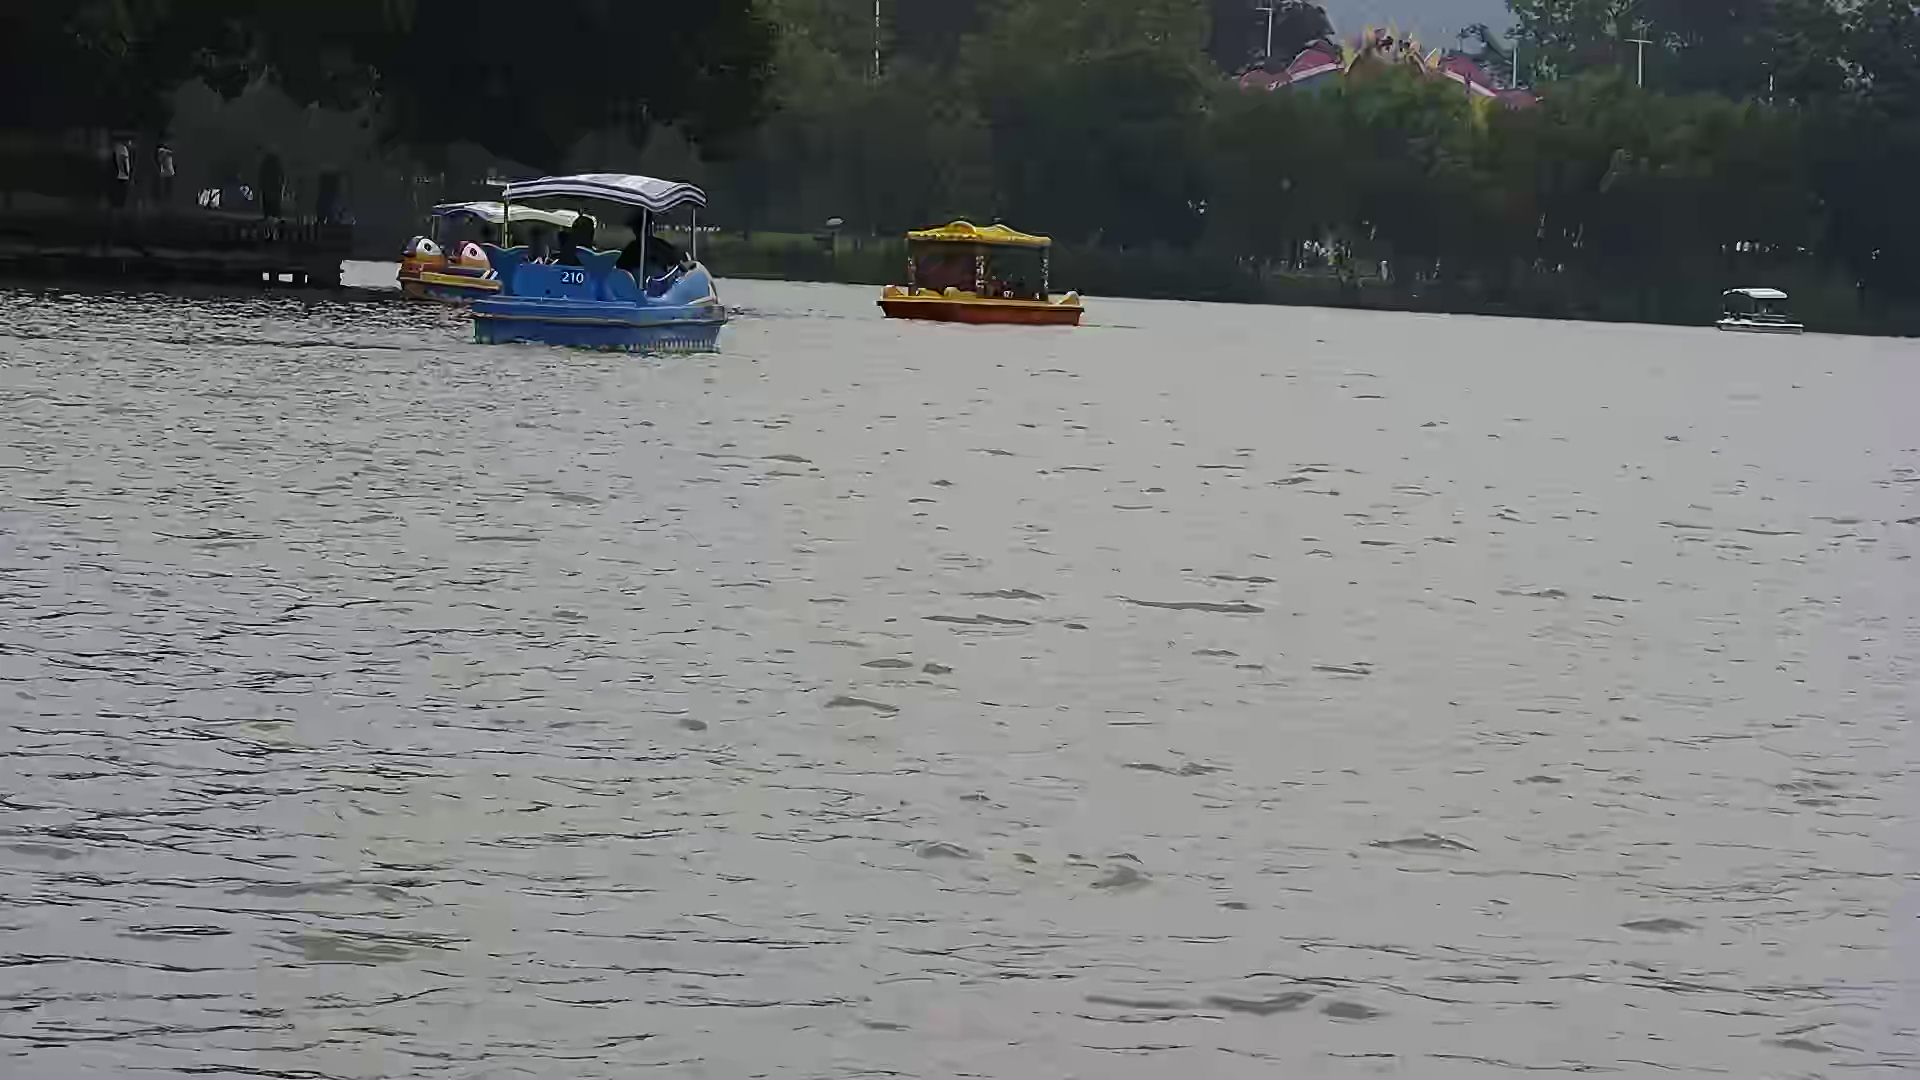boat: (479, 164, 723, 359), (881, 208, 1092, 327), (384, 198, 529, 307), (1716, 278, 1807, 338)
